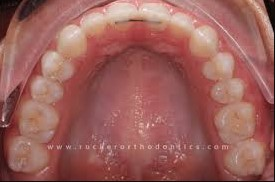UL1BC_healthy: (205, 56, 234, 82), (214, 82, 244, 104)
UL1M_healthy: (218, 106, 258, 142)
UL2M_healthy: (225, 142, 266, 178)
ULCI_decay: (142, 4, 170, 31)
ULC_healthy: (194, 27, 217, 60)
ULLI_healthy: (170, 14, 193, 40)
UR1BC_healthy: (42, 52, 77, 80)
UR1M_healthy: (20, 102, 60, 140)
UR2BC_healthy: (31, 76, 65, 102)
UR2M_healthy: (9, 137, 49, 172)
URCI_decay: (106, 4, 140, 31)
URC_healthy: (57, 26, 89, 57)
URLI_healthy: (83, 14, 106, 35)
